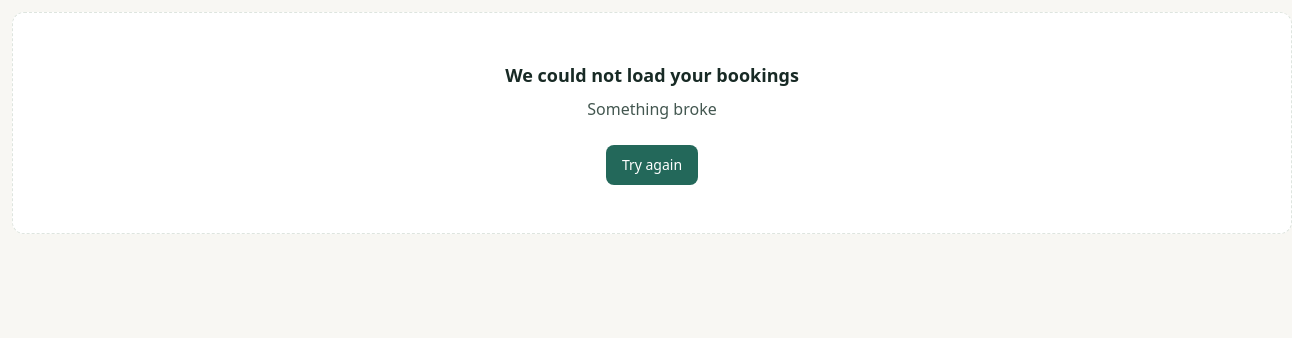
it: my bookings › shows the error and retries
Expected: the heading "We could not load your bookings" is shown, x1=505 y1=63 x2=799 y2=87
Click the button "Try again" at (652, 165), box x1=606 y1=145 x2=698 y2=185
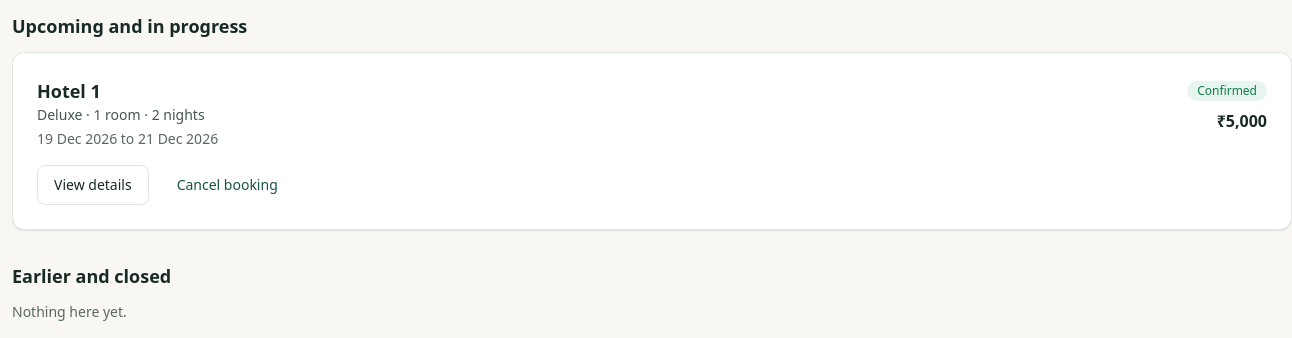
Expected: the heading "Hotel 1" is shown, x1=37 y1=79 x2=101 y2=103
